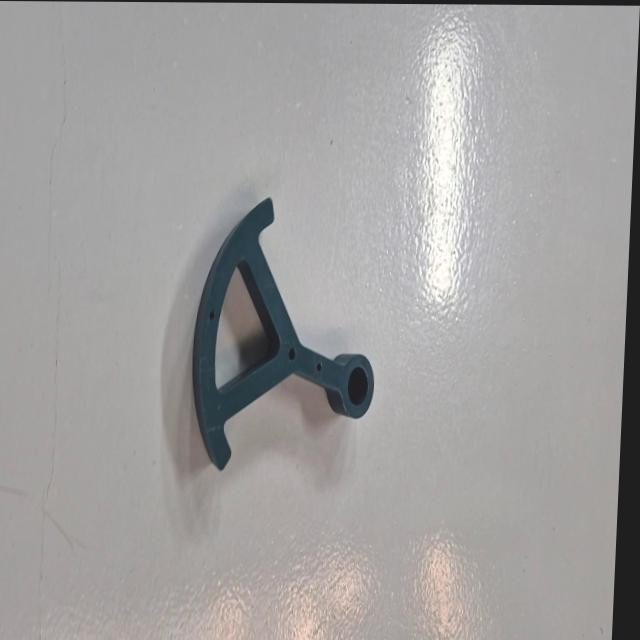haptic: (186, 194, 383, 474)
